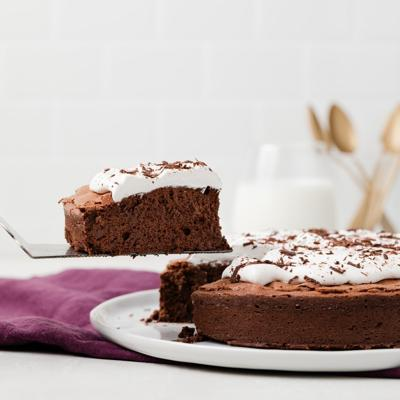cake: (159, 228, 400, 350), (57, 160, 223, 257)
